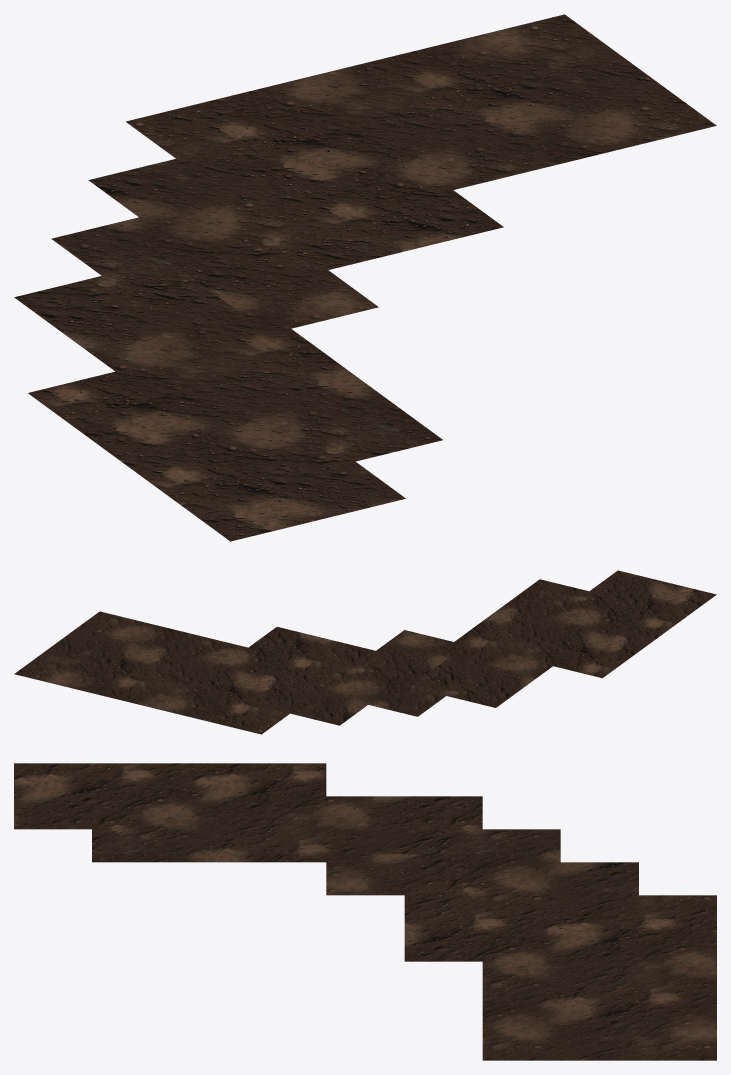
The model's file is floor_-1_-13.glb.
The picture shows the model from 3 angles, top to bottom: view 1: azimuth 30°, elevation 25°; view 2: azimuth 150°, elevation 25°; view 3: azimuth 270°, elevation 25°; orthographic projection. The views are drawn at different scales.
Visible parts, largest first — view 1: floor_-1_-13; view 2: floor_-1_-13; view 3: floor_-1_-13.
Part boxes in pixels (box(x1,y1,x2,y2)): floor_-1_-13: box(14, 14, 716, 541); floor_-1_-13: box(14, 570, 716, 734); floor_-1_-13: box(14, 763, 716, 1060).
Bounding box in the file's own units: 36 × 0 × 36.
1 material, 1 textured.
